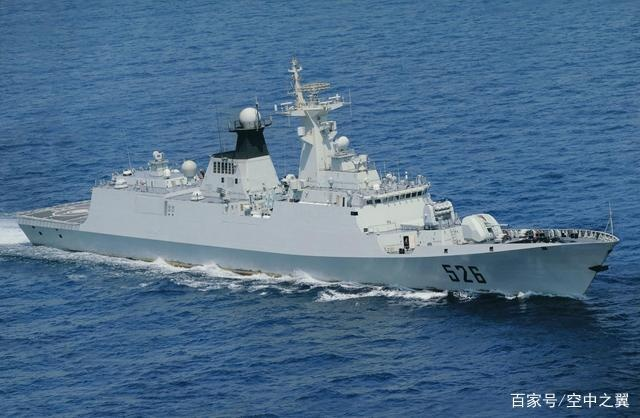warship: (13, 59, 640, 303)
